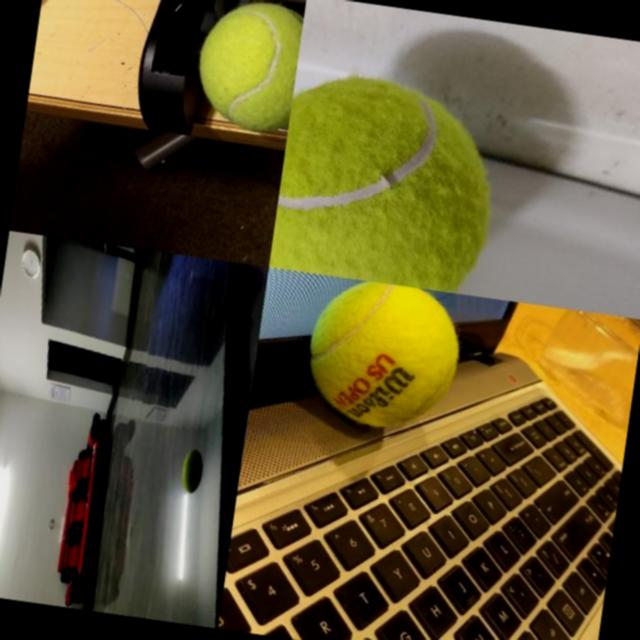tennis-ball: (269, 62, 512, 296), (297, 274, 468, 438), (190, 0, 304, 136), (180, 447, 206, 494)
